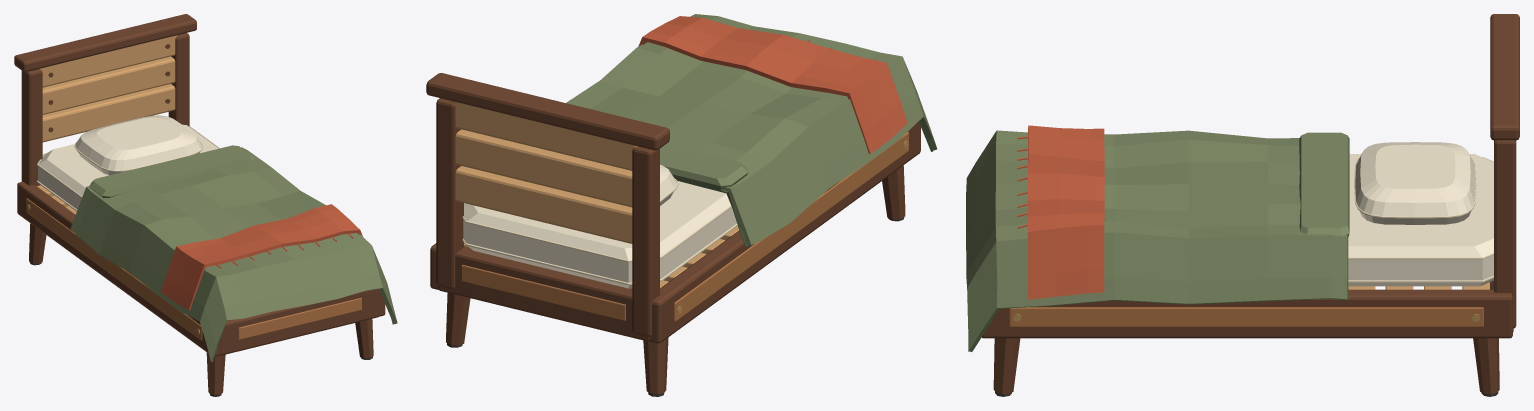
File: 032_single_bed_v01.glb
3 renders of one model, left to right at view 1: azimuth 30°, elevation 25°; view 2: azimuth 150°, elevation 25°; view 3: azimuth 270°, elevation 25°, orthographic. The views are drawn at different scales.
Visible parts, largest first — view 1: 032 sage draped duvet, 032 folded terracotta throw, 032 single linen pillow, 032 headboard honey board.001, 032 headboard honey board, 032 walnut headboard cap, 032 end rail.001, 032 duvet turned back cuff, 032 walnut side rail, 032 headboard honey board.002, 032 ivory mattress, 032 side rail warm inset (+6 smaller); view 2: 032 sage draped duvet, 032 folded terracotta throw, 032 ivory mattress, 032 headboard honey board, 032 headboard honey board.001, 032 end rail, 032 walnut headboard cap, 032 walnut side rail, 032 headboard upright, 032 headboard honey board.002, 032 side rail warm inset, 032 headboard upright.001 (+8 smaller); view 3: 032 sage draped duvet, 032 folded terracotta throw, 032 walnut side rail.001, 032 ivory mattress, 032 side rail warm inset.001, 032 single linen pillow, 032 duvet turned back cuff, 032 walnut headboard cap, 032 headboard upright.001, 032 tapered walnut leg.002, 032 tapered walnut leg.003, 032 bound duvet edge.001 (+1 smaller).
Boxes of the visible parts, left/top/right/bottom form: 032 sage draped duvet: left=70, top=147, right=397, bottom=361; 032 folded terracotta throw: left=161, top=204, right=362, bottom=310; 032 single linen pillow: left=75, top=115, right=202, bottom=175; 032 headboard honey board.001: left=42, top=56, right=175, bottom=114; 032 headboard honey board: left=42, top=84, right=175, bottom=142; 032 walnut headboard cap: left=14, top=14, right=196, bottom=71; 032 end rail.001: left=220, top=289, right=378, bottom=355; 032 duvet turned back cuff: left=89, top=145, right=254, bottom=197; 032 walnut side rail: left=17, top=181, right=220, bottom=356; 032 headboard honey board.002: left=38, top=35, right=177, bottom=87; 032 ivory mattress: left=38, top=124, right=218, bottom=209; 032 side rail warm inset: left=26, top=198, right=202, bottom=340; 032 sage draped duvet: left=566, top=14, right=937, bottom=245; 032 folded terracotta throw: left=638, top=16, right=907, bottom=153; 032 ivory mattress: left=463, top=181, right=736, bottom=288; 032 headboard honey board: left=455, top=166, right=632, bottom=243; 032 headboard honey board.001: left=455, top=129, right=632, bottom=207; 032 end rail: left=438, top=247, right=650, bottom=341; 032 walnut headboard cap: left=426, top=73, right=669, bottom=150; 032 walnut side rail: left=650, top=121, right=920, bottom=343; 032 headboard upright: left=632, top=146, right=659, bottom=336; 032 headboard honey board.002: left=453, top=101, right=637, bottom=170; 032 side rail warm inset: left=674, top=132, right=908, bottom=321; 032 headboard upright.001: left=436, top=98, right=463, bottom=288; 032 sage draped duvet: left=966, top=130, right=1347, bottom=351; 032 folded terracotta throw: left=1027, top=125, right=1104, bottom=299; 032 walnut side rail.001: left=981, top=289, right=1512, bottom=338; 032 ivory mattress: left=1348, top=154, right=1493, bottom=286; 032 side rail warm inset.001: left=1009, top=307, right=1483, bottom=326; 032 single linen pillow: left=1355, top=142, right=1475, bottom=224; 032 duvet turned back cuff: left=1299, top=132, right=1349, bottom=237; 032 walnut headboard cap: left=1490, top=14, right=1519, bottom=140; 032 headboard upright.001: left=1494, top=140, right=1516, bottom=328; 032 tapered walnut leg.002: left=1473, top=338, right=1499, bottom=394; 032 tapered walnut leg.003: left=993, top=338, right=1020, bottom=394; 032 bound duvet edge.001: left=971, top=298, right=1346, bottom=351.
Size of the model in its own units: 1.11 by 1.15 by 2.1.
